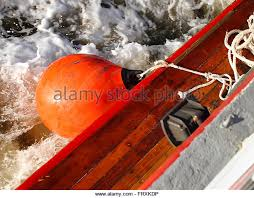buoy: (34, 54, 128, 142)
